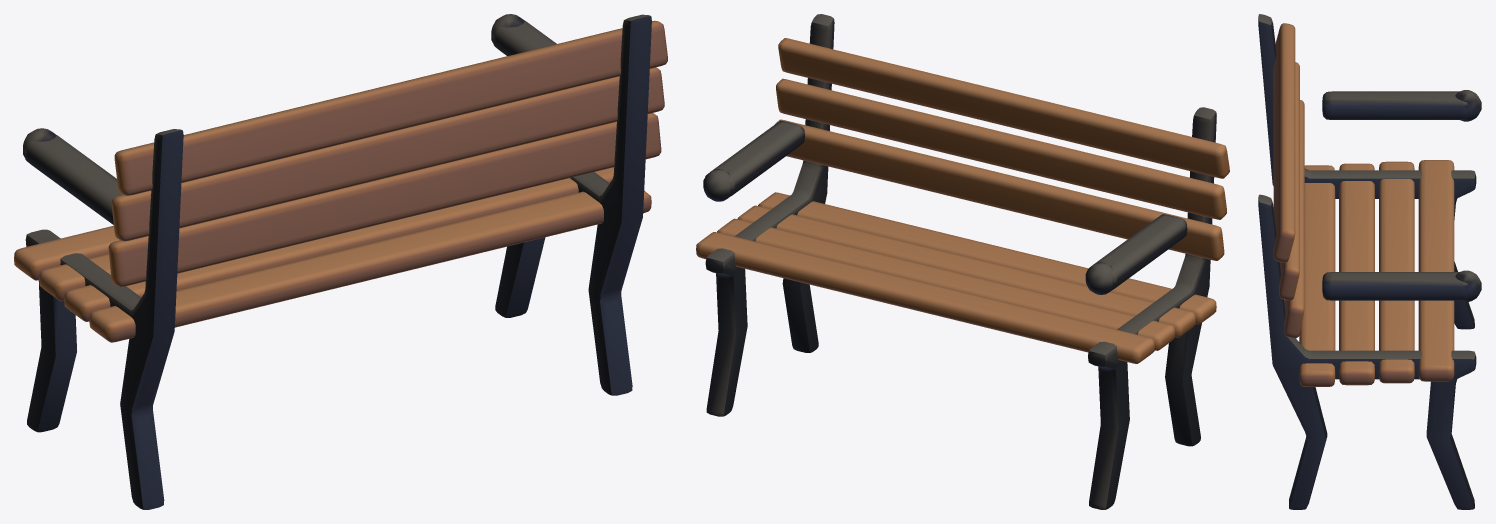
The model's file is Bench.fbx.
The picture shows the model from 3 angles, left to right: view 1: azimuth 30°, elevation 25°; view 2: azimuth 150°, elevation 25°; view 3: azimuth 270°, elevation 25°; orthographic projection. The views are drawn at different scales.
Visible parts, largest first — view 1: SM_Prop_Bench; view 2: SM_Prop_Bench; view 3: SM_Prop_Bench.
Boxes of the visible parts, bbox=[...] form: SM_Prop_Bench: bbox=[14, 14, 667, 509]; SM_Prop_Bench: bbox=[696, 14, 1229, 509]; SM_Prop_Bench: bbox=[1258, 14, 1481, 509].
Bounding box in the file's own units: 5 × 3.44 × 2.25.
